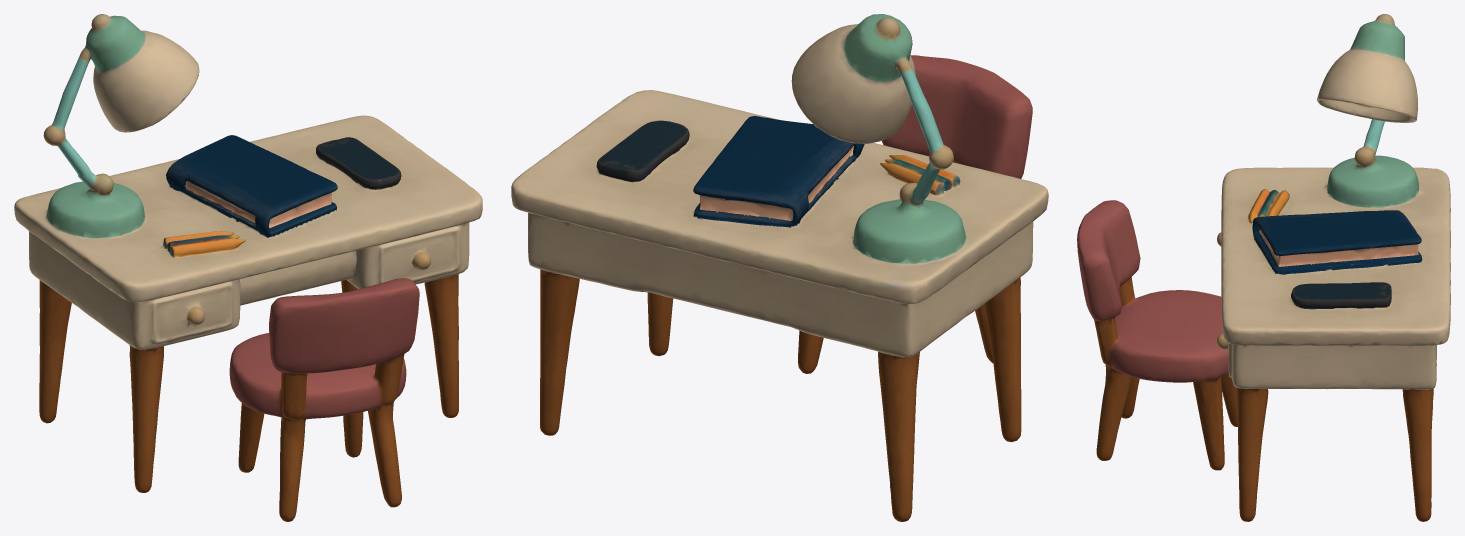
Rendered from bilik_desk.glb.
3 views of the same model, side by side, from view 1: azimuth 30°, elevation 25°; view 2: azimuth 150°, elevation 25°; view 3: azimuth 270°, elevation 25° (orthographic). The views are drawn at different scales.
Bounding box in the file's own units: 0.9182 × 1 × 0.8855.
1 material, 1 textured.
